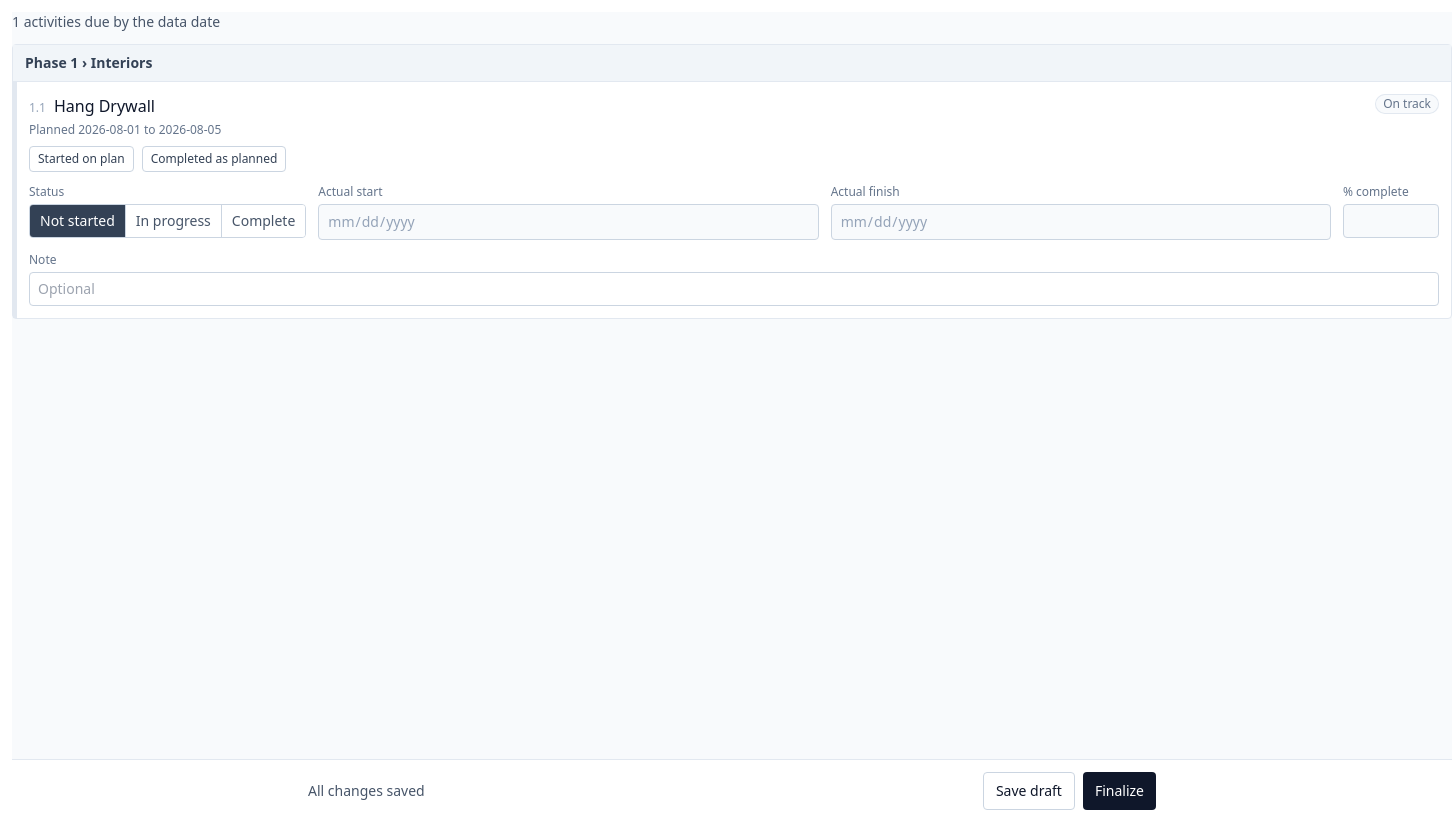
it: LookaheadUpdateForm › In progress needs an actual start
Click the button "In progress" at (174, 221), box [126,205,222,237]
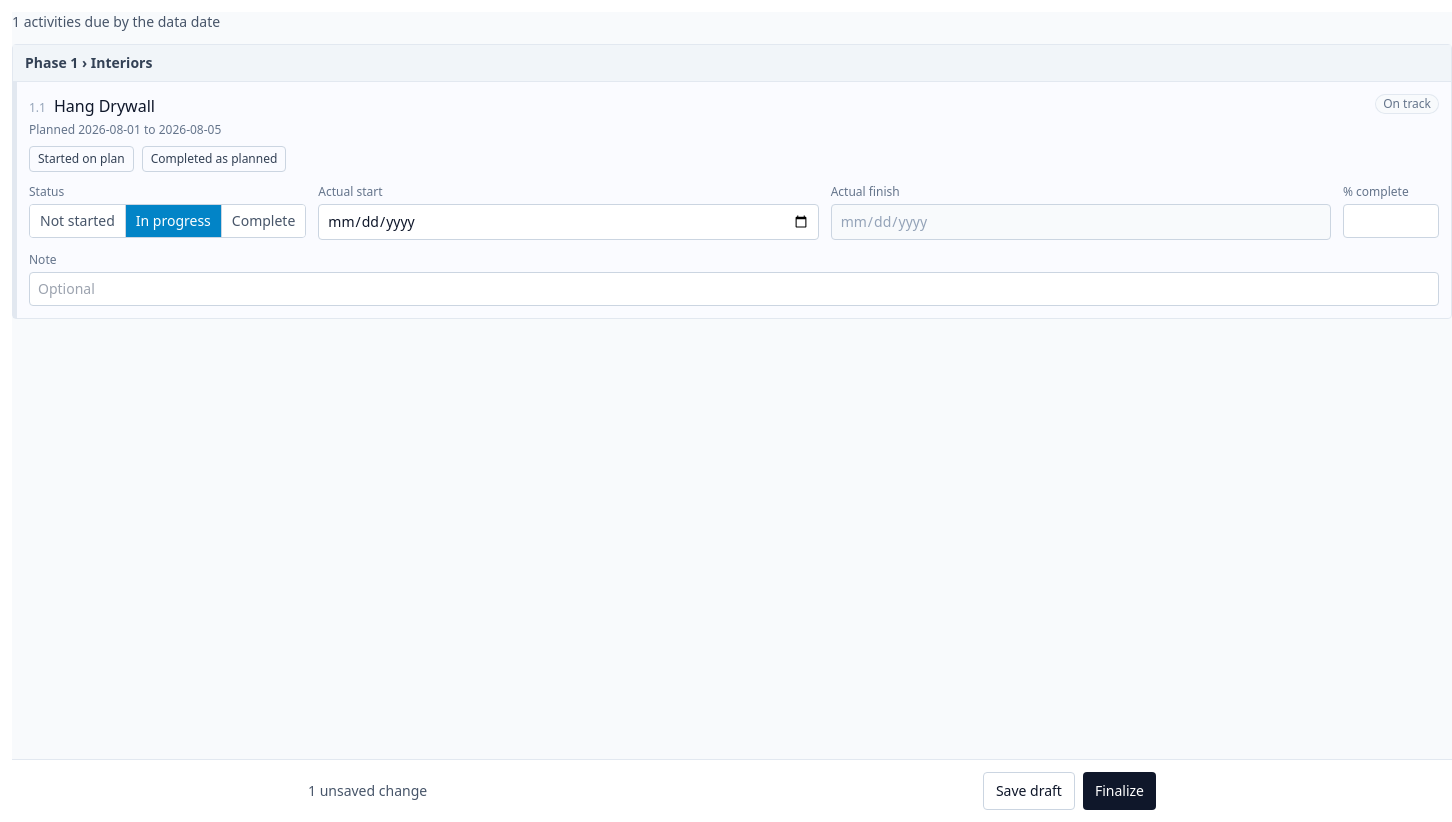
Click the button "Save draft" at (1029, 791), box [983,772,1075,810]
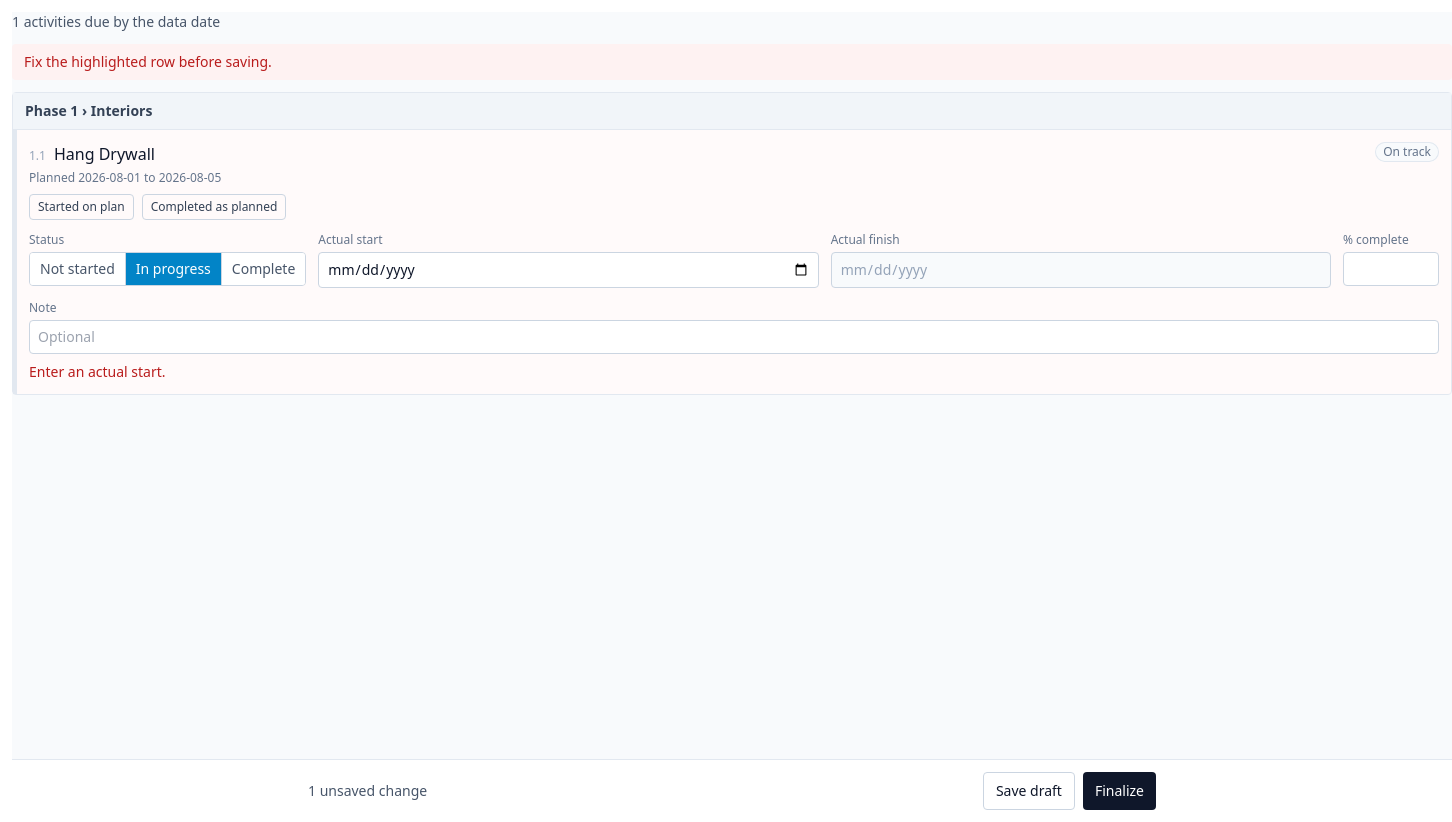
Result: the text "Enter an actual start." is shown at [29,362,166,381]
